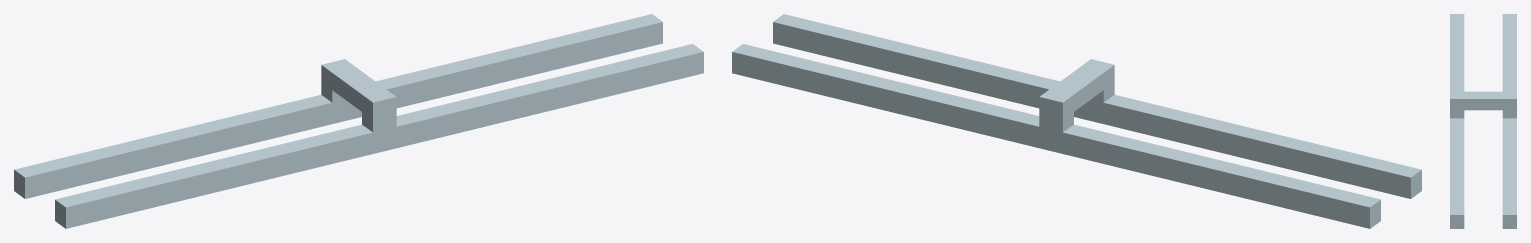
Rendered from CeilingLamp.fbx.
3 renders of one model, left to right at view 1: azimuth 30°, elevation 25°; view 2: azimuth 150°, elevation 25°; view 3: azimuth 270°, elevation 25°, orthographic. The views are drawn at different scales.
Visible parts, largest first — view 1: CeilingLamp; view 2: CeilingLamp; view 3: CeilingLamp.
Part boxes in pixels (x1=…): CeilingLamp: x1=14, y1=14, x2=703, y2=228; CeilingLamp: x1=732, y1=14, x2=1421, y2=228; CeilingLamp: x1=1450, y1=14, x2=1516, y2=228.
Size of the model in its own units: 163 by 12.53 by 22.87.
